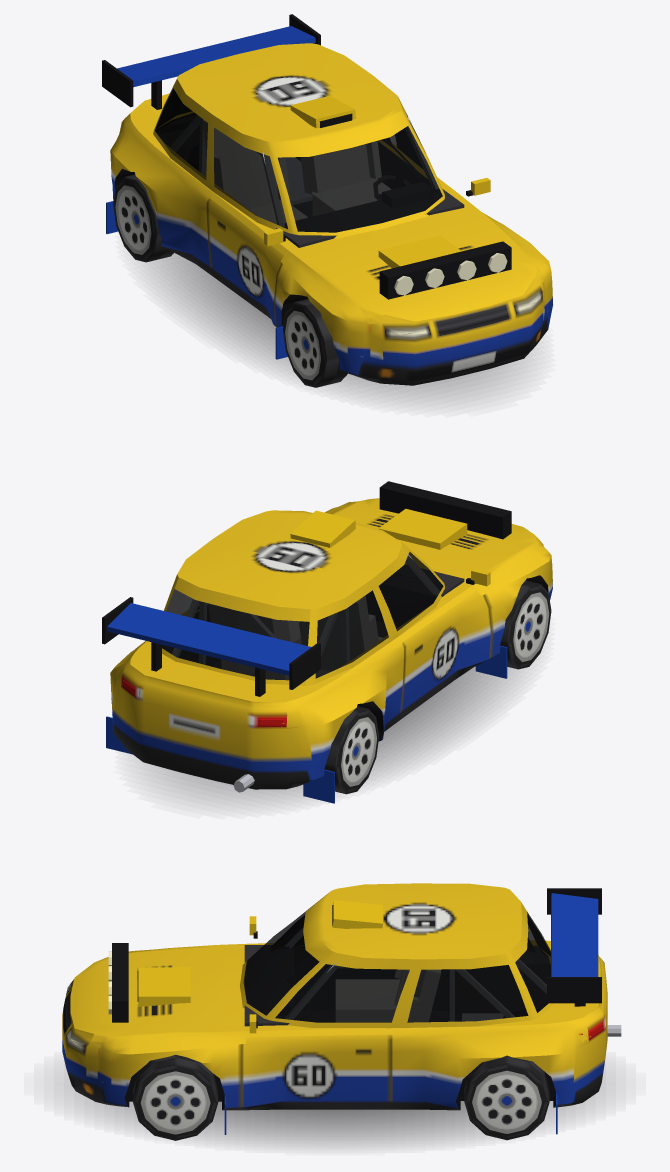
File: ventania.glb
3 views of the same model, one above another, from view 1: azimuth 30°, elevation 25°; view 2: azimuth 150°, elevation 25°; view 3: azimuth 270°, elevation 25° (orthographic). The views are drawn at different scales.
Parts seen in each view (by area): view 1: Carroceria, Interior, Capo_malha, Porta_D_malha, Sombra, Tampa_malha, Roda_DD, Roda_TD, Porta_E_malha; view 2: Carroceria, Tampa_malha, Capo_malha, Porta_D_malha, Interior, Sombra, Roda_TD, Roda_DD; view 3: Carroceria, Porta_E_malha, Interior, Capo_malha, Sombra, Tampa_malha, Roda_DE, Roda_TE, Porta_D_malha.
Boxes of the visible parts, bbox=[...] form: Carroceria: bbox=[102, 14, 552, 385]; Interior: bbox=[157, 115, 464, 247]; Capo_malha: bbox=[305, 215, 540, 322]; Porta_D_malha: bbox=[207, 124, 293, 326]; Sombra: bbox=[146, 253, 530, 403]; Tampa_malha: bbox=[117, 26, 315, 131]; Roda_DD: bbox=[283, 299, 347, 387]; Roda_TD: bbox=[113, 174, 173, 262]; Porta_E_malha: bbox=[395, 97, 490, 196]; Carroceria: bbox=[102, 500, 552, 803]; Tampa_malha: bbox=[107, 577, 311, 768]; Capo_malha: bbox=[336, 481, 540, 574]; Porta_D_malha: bbox=[385, 543, 491, 710]; Interior: bbox=[162, 554, 464, 679]; Sombra: bbox=[143, 667, 522, 804]; Roda_TD: bbox=[324, 706, 379, 794]; Roda_DD: bbox=[500, 580, 551, 669]; Carroceria: bbox=[62, 883, 621, 1134]; Porta_E_malha: bbox=[242, 952, 390, 1107]; Interior: bbox=[244, 924, 550, 1026]; Capo_malha: bbox=[76, 943, 225, 1042]; Sombra: bbox=[64, 1070, 605, 1145]; Tampa_malha: bbox=[510, 893, 607, 1051]; Roda_DE: bbox=[133, 1054, 218, 1140]; Roda_TE: bbox=[464, 1055, 549, 1140]; Porta_D_malha: bbox=[249, 916, 304, 947].
Bounding box in the file's own units: 2.52 × 1.42 × 4.65.
14 materials, 5 textured.
